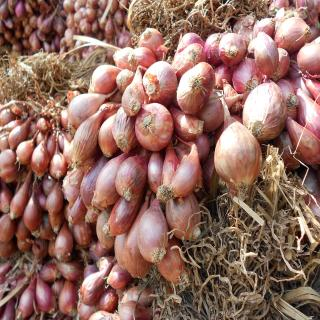Bawang Merah: (2, 4, 320, 320)
